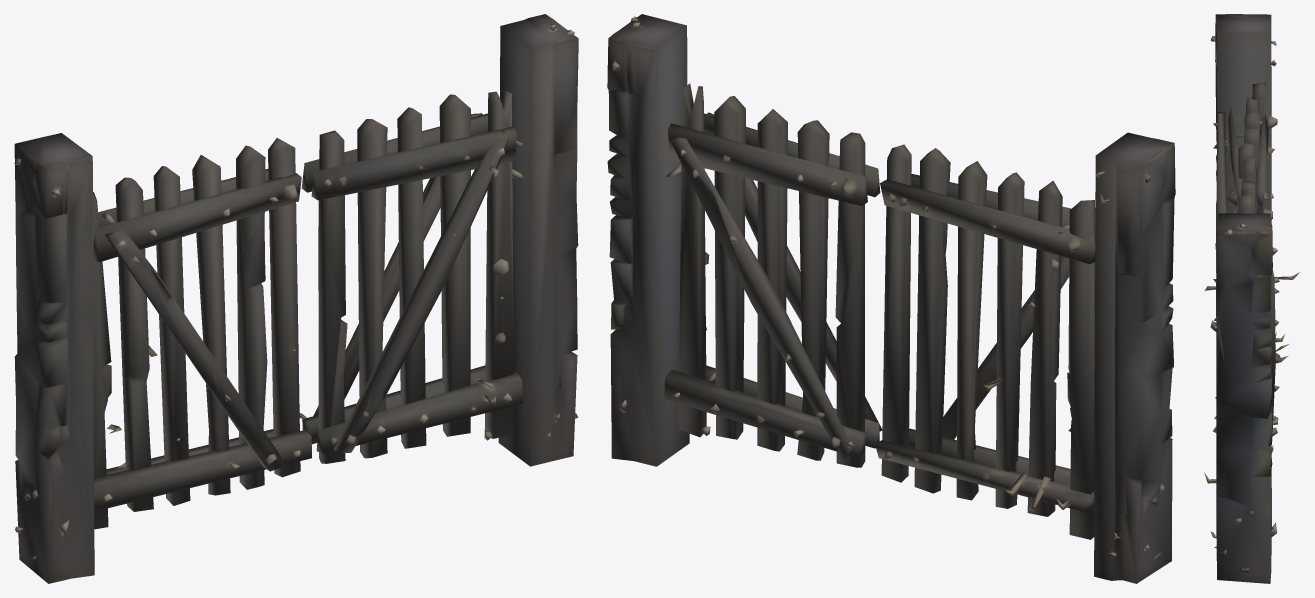
Rendered from yard_gate.glb.
3 views of the same model, side by side, from view 1: azimuth 30°, elevation 25°; view 2: azimuth 150°, elevation 25°; view 3: azimuth 270°, elevation 25° (orthographic). The views are drawn at different scales.
Visible parts, largest first — view 1: yard_gate_LOD0; view 2: yard_gate_LOD0; view 3: yard_gate_LOD0.
Part boxes in pixels (box(x1,y1,x2,y2)): yard_gate_LOD0: box(14, 14, 578, 583); yard_gate_LOD0: box(607, 14, 1175, 583); yard_gate_LOD0: box(1204, 14, 1299, 583).
Size of what is drawn, in the model's own units: 1.74 by 1.3 by 0.3201.
Materials: 1 (1 with a texture image).
